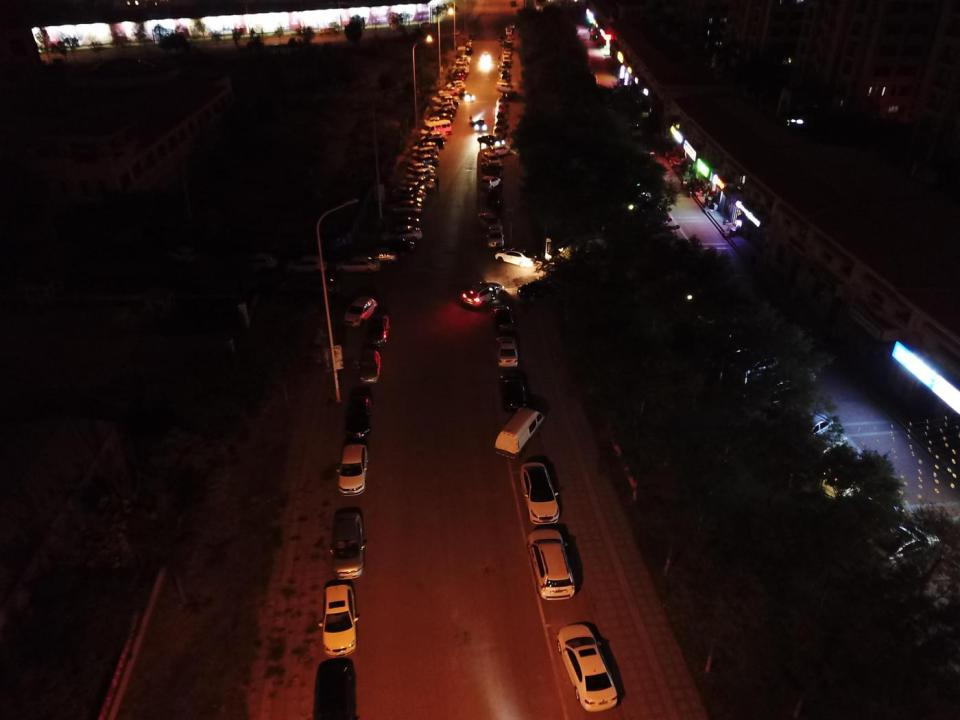car: (554, 621, 619, 711), (859, 524, 942, 577), (523, 526, 579, 602), (827, 496, 914, 536), (318, 579, 362, 656), (313, 657, 361, 720), (327, 507, 366, 581), (519, 460, 562, 525), (816, 465, 886, 500), (336, 442, 368, 496), (344, 392, 372, 440), (342, 293, 379, 328), (793, 413, 836, 443), (462, 280, 504, 308), (289, 275, 340, 298), (495, 244, 539, 270), (500, 370, 527, 412), (517, 278, 565, 301), (283, 253, 328, 275), (364, 312, 392, 347), (335, 255, 381, 276), (238, 251, 280, 272), (495, 333, 519, 368), (358, 347, 380, 384), (489, 304, 514, 332), (378, 238, 416, 256), (166, 244, 200, 264), (380, 226, 422, 242), (364, 247, 399, 265), (385, 217, 421, 234), (386, 200, 422, 216), (393, 187, 427, 203), (401, 176, 434, 192), (477, 212, 504, 230), (395, 181, 426, 196), (411, 140, 438, 156), (409, 154, 439, 168), (477, 134, 505, 149), (488, 225, 505, 249), (420, 130, 448, 144), (406, 168, 435, 181), (480, 174, 502, 191), (440, 81, 464, 96), (418, 137, 444, 150), (429, 109, 455, 122), (431, 101, 457, 114), (406, 163, 434, 175), (444, 83, 467, 97), (486, 188, 502, 207), (433, 105, 456, 118), (422, 115, 454, 124), (432, 95, 458, 106), (481, 161, 500, 176), (482, 152, 502, 166), (431, 93, 456, 104), (472, 116, 488, 132), (448, 70, 467, 82), (492, 146, 513, 156), (454, 54, 470, 66), (459, 92, 475, 104), (492, 126, 505, 140), (494, 112, 507, 126), (453, 62, 469, 73), (454, 57, 470, 68), (480, 49, 492, 62), (494, 103, 506, 114), (499, 72, 511, 83), (498, 62, 509, 74), (502, 90, 516, 99), (495, 97, 506, 107), (502, 55, 511, 64), (450, 28, 460, 36), (418, 22, 432, 27), (499, 41, 510, 47), (502, 47, 510, 55), (505, 28, 513, 35), (505, 38, 514, 44), (498, 35, 504, 41), (508, 33, 514, 39), (505, 24, 511, 30), (509, 22, 515, 28)
truck: (318, 27, 338, 35)
van: (493, 406, 547, 461), (807, 433, 851, 464), (420, 120, 452, 136), (409, 147, 436, 159), (494, 80, 514, 93)
